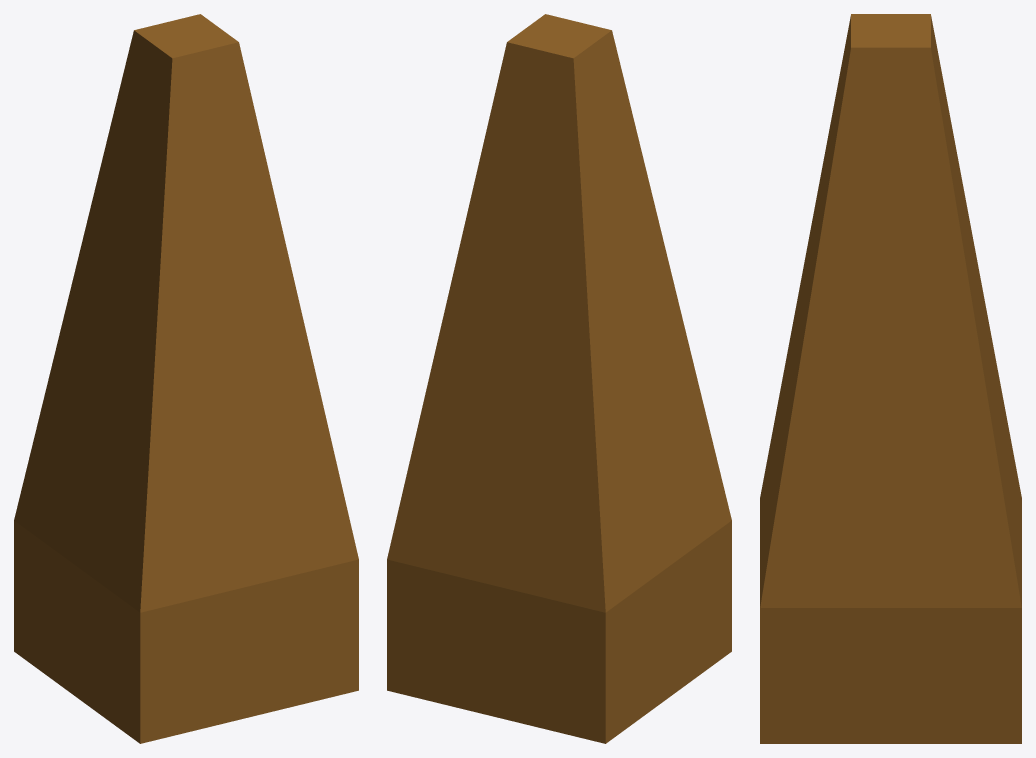
Rendered from smallcubemountain.glb.
3 views of the same model, side by side, from view 1: azimuth 30°, elevation 25°; view 2: azimuth 150°, elevation 25°; view 3: azimuth 270°, elevation 25° (orthographic). The views are drawn at different scales.
Visible parts, largest first — view 1: Cube.001; view 2: Cube.001; view 3: Cube.001.
Part boxes in pixels (box(x1,y1,x2,y2)): Cube.001: box(14, 14, 358, 743); Cube.001: box(387, 14, 731, 743); Cube.001: box(760, 14, 1021, 743).
Bounding box in the file's own units: 6.96 × 19.32 × 6.96.
